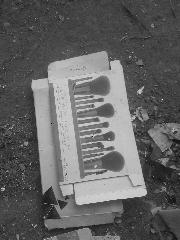paper: (51, 51, 147, 205)
